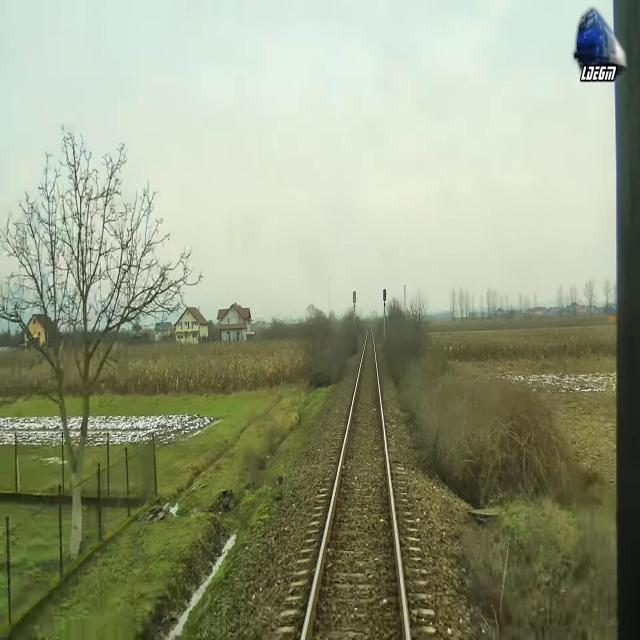rail-track: (305, 327, 405, 639)
